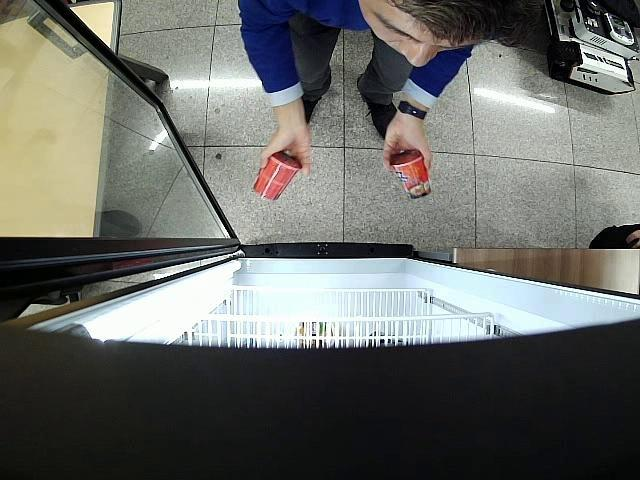02_shinRamen_S: (252, 154, 302, 204), (389, 151, 432, 202)
